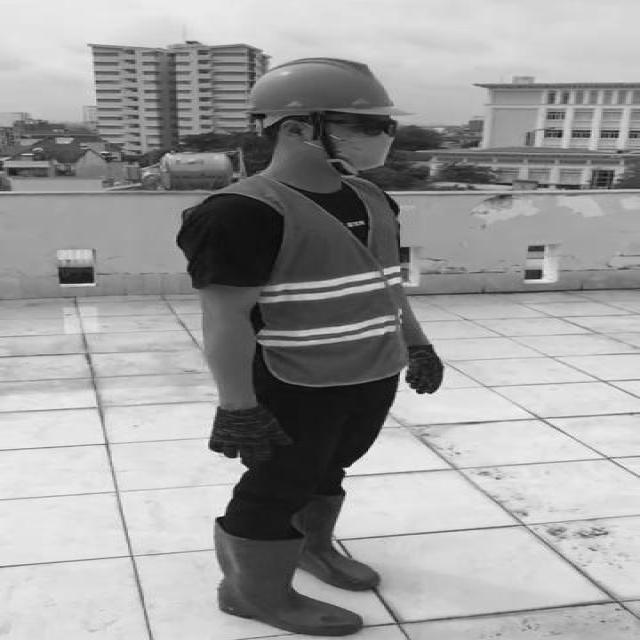boots: (210, 521, 361, 634), (293, 493, 379, 589)
face_mask: (317, 114, 407, 171)
glasses: (342, 115, 406, 142)
hand_glove: (208, 407, 292, 460), (407, 348, 445, 395)
head_helmet: (238, 57, 420, 123)
person: (170, 56, 460, 640)
vest: (251, 176, 405, 384)
